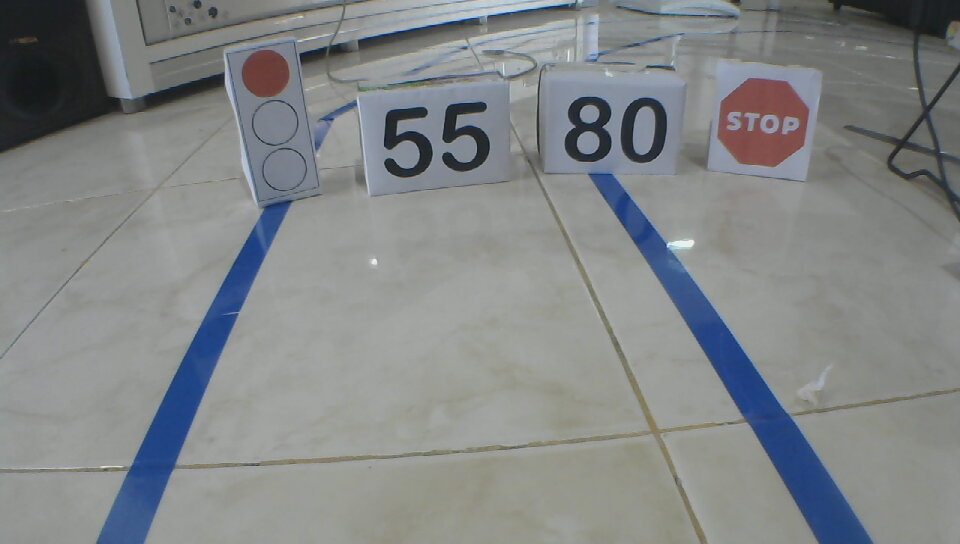Red Light: (240, 46, 308, 194)
Speed 55: (382, 102, 493, 183)
Speed 80: (563, 93, 672, 165)
Stop: (719, 76, 811, 171)
